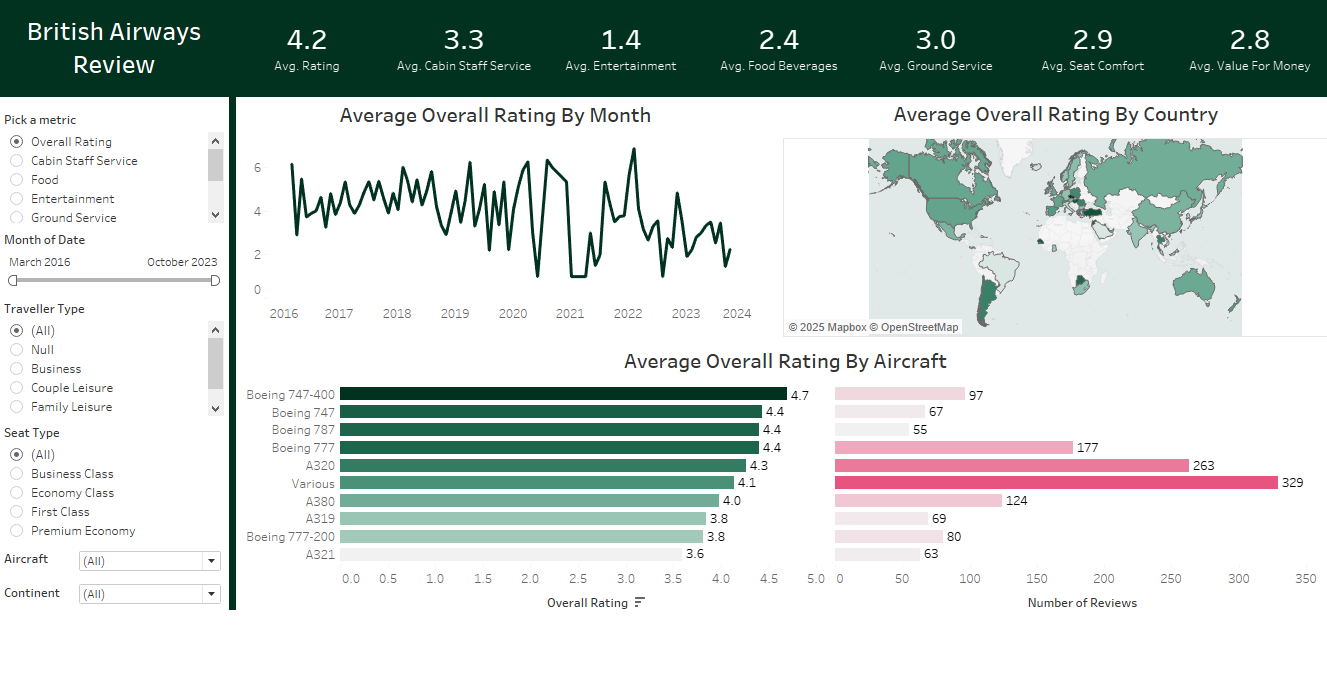

Layout of this report page (visuals, bound fields, positions):
{"tool":"tableau","page":{"name":"British Airways Review","canvas":[1200,700],"ordinal":0},"visuals":[{"type":"text","box":[0,0,200,100]},{"type":"worksheet","title":"Summary","mark":"Automatic","box":[200,0,967,100]},{"type":"worksheet","title":"Map","mark":"Automatic","box":[688,98,480,243]},{"type":"blank","box":[201,99,6,516]},{"type":"worksheet","title":"Month","mark":"Line","rows":["Calculation_723953690731950080"],"cols":["date"],"box":[209,99,452,233]},{"type":"parameter","param":"[Parameters].[Parameter 1]","box":[0,110,200,120]},{"type":"filter","title":"Map","param":"[federated.0u4g00v1na8o7h10a95fc07mxeqe].[tmn:date:qk]","box":[0,230,200,69]},{"type":"filter","title":"Map","param":"[federated.0u4g00v1na8o7h10a95fc07mxeqe].[none:traveller_type:nk]","box":[0,299,200,126]},{"type":"worksheet","title":"Aircraft","mark":"Automatic","cols":["Calculation_723953690731950080","ba_reviews.csv_34919BDB88AD408AA88B53925D5C28A7"],"box":[211,346,958,285]},{"type":"filter","title":"Map","param":"[federated.0u4g00v1na8o7h10a95fc07mxeqe].[none:seat_type:nk]","box":[0,425,200,124]},{"type":"filter","title":"Map","param":"[federated.0u4g00v1na8o7h10a95fc07mxeqe].[Aircraft (group)]","box":[0,549,200,34]},{"type":"filter","title":"Map","param":"[federated.0u4g00v1na8o7h10a95fc07mxeqe].[none:Continent:nk]","box":[0,583,200,32]}]}

Visuals, with their boxes on the page's 1200x700 design canvas (x1, y1, x2, y2). These are canvas units, not pixel positions in the 1327x688 screenshot, which may show the page scaled, cropped or inside an application window:
text: [left=0, top=0, right=200, bottom=100]
"Summary" worksheet: [left=200, top=0, right=1167, bottom=100]
"Map" worksheet: [left=688, top=98, right=1168, bottom=341]
blank: [left=201, top=99, right=207, bottom=615]
"Month" worksheet (Line marks): [left=209, top=99, right=661, bottom=332]
parameter: [left=0, top=110, right=200, bottom=230]
"Map" filter: [left=0, top=230, right=200, bottom=299]
"Map" filter: [left=0, top=299, right=200, bottom=425]
"Aircraft" worksheet: [left=211, top=346, right=1169, bottom=631]
"Map" filter: [left=0, top=425, right=200, bottom=549]
"Map" filter: [left=0, top=549, right=200, bottom=583]
"Map" filter: [left=0, top=583, right=200, bottom=615]
